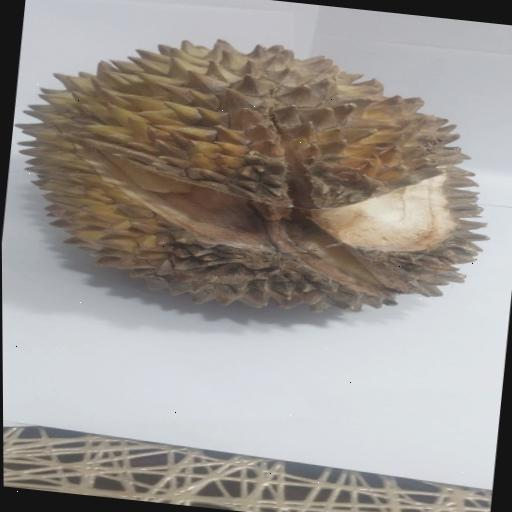rot: (0, 11, 512, 359)
